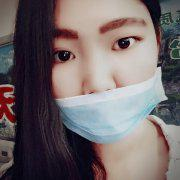WRONG: (43, 18, 161, 143)
